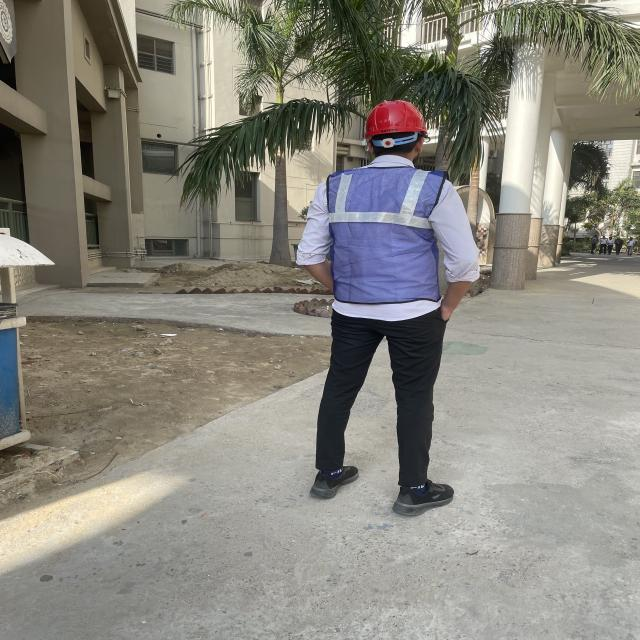safe: (297, 102, 478, 516)
